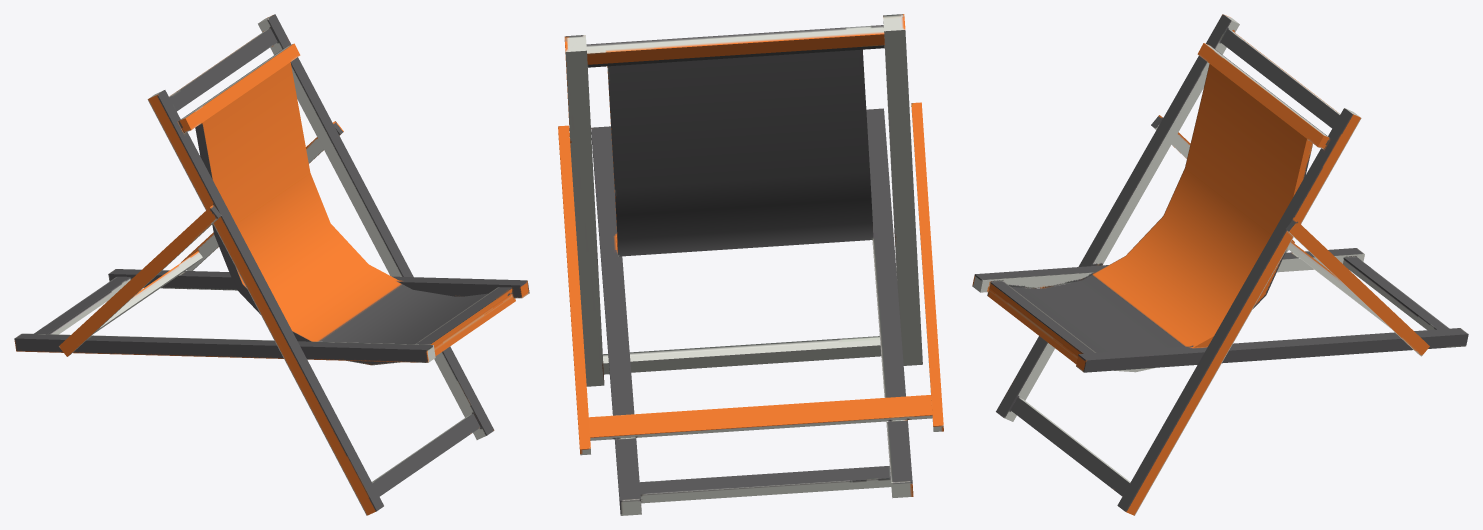
Rendered from BeachChair.fbx.
3 views of the same model, side by side, from view 1: azimuth 30°, elevation 25°; view 2: azimuth 150°, elevation 25°; view 3: azimuth 270°, elevation 25° (orthographic). The views are drawn at different scales.
Visible parts, largest first — view 1: node_id36, node_id34; view 2: node_id36, node_id34; view 3: node_id34, node_id36.
Part boxes in pixels (<box>): node_id36: <box>14,14,529,515</box>; node_id34: <box>178,43,515,365</box>; node_id36: <box>558,14,943,515</box>; node_id34: <box>587,45,884,256</box>; node_id34: <box>987,43,1330,372</box>; node_id36: <box>972,14,1468,515</box>.
Bounding box in the file's own units: 0.5021 × 0.4805 × 0.5879.
Materials: 2 (2 with a texture image).
